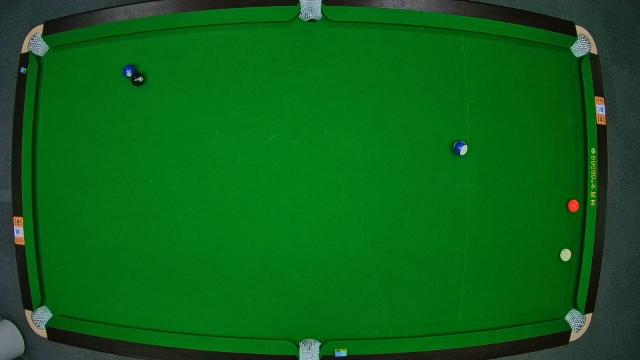bag1: (26, 33, 49, 55)
bag2: (298, 0, 322, 22)
bag3: (573, 34, 593, 56)
bag4: (30, 304, 52, 326)
bag5: (297, 340, 321, 360)
bag6: (566, 310, 586, 332)
ball0: (560, 248, 572, 262)
ball10: (451, 139, 467, 156)
ball2: (121, 63, 137, 79)
ball5: (567, 199, 581, 214)
ball8: (130, 72, 146, 86)
